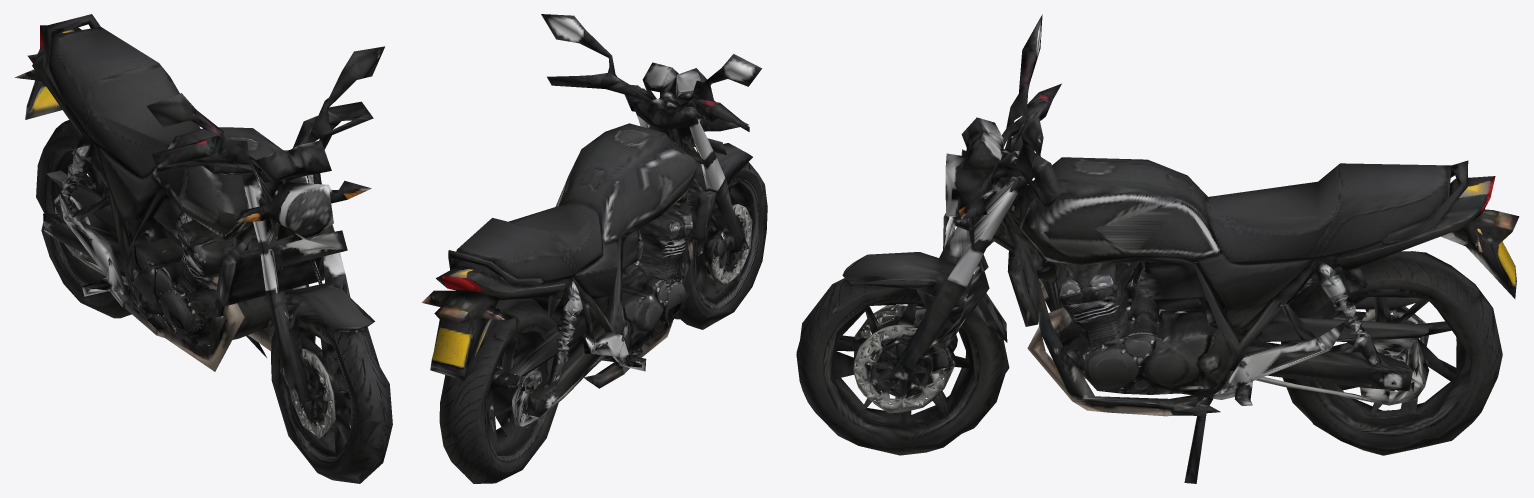
Rendered from v11-motorbike-6k.glb.
The picture shows the model from 3 angles, left to right: view 1: azimuth 30°, elevation 25°; view 2: azimuth 150°, elevation 25°; view 3: azimuth 270°, elevation 25°; orthographic projection. The views are drawn at different scales.
Parts seen in each view (by area): view 1: tripo_node_12d1f031-ae1a-4c2b-a49b-1efbe38cf7c7; view 2: tripo_node_12d1f031-ae1a-4c2b-a49b-1efbe38cf7c7; view 3: tripo_node_12d1f031-ae1a-4c2b-a49b-1efbe38cf7c7.
Part boxes in pixels (box(x1,y1,x2,y2)): tripo_node_12d1f031-ae1a-4c2b-a49b-1efbe38cf7c7: box(14, 14, 392, 483); tripo_node_12d1f031-ae1a-4c2b-a49b-1efbe38cf7c7: box(421, 14, 767, 483); tripo_node_12d1f031-ae1a-4c2b-a49b-1efbe38cf7c7: box(796, 14, 1519, 483).
Bounding box in the file's own units: 0.3993 × 0.5751 × 0.9762.
Materials: 1 (1 with a texture image).
